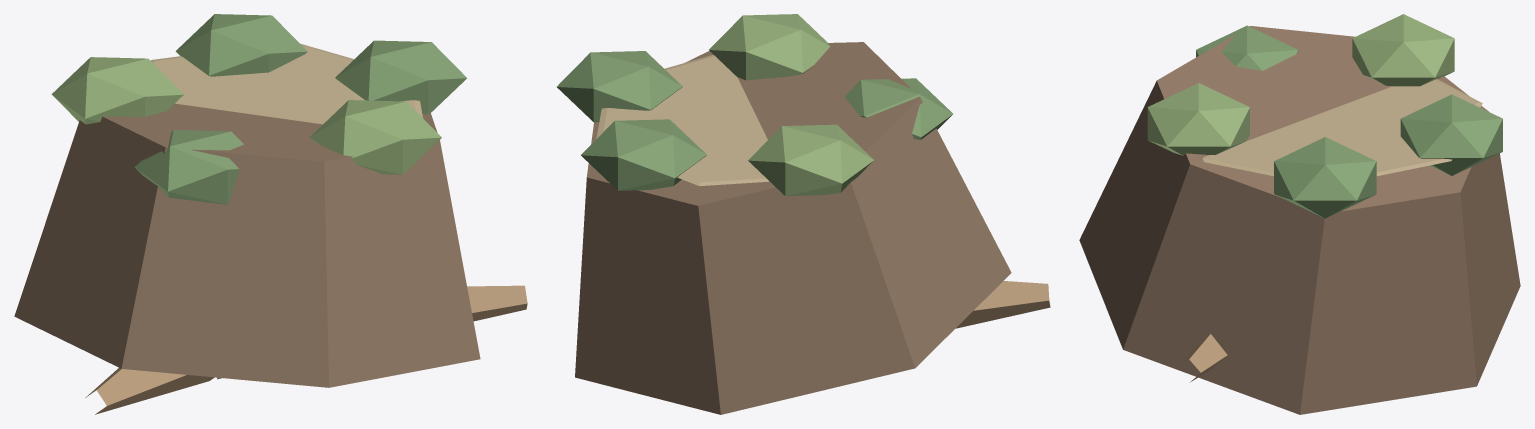
The picture shows the model from 3 angles, left to right: view 1: azimuth 30°, elevation 25°; view 2: azimuth 150°, elevation 25°; view 3: azimuth 270°, elevation 25°; orthographic projection. The views are drawn at different scales.
Visible parts, largest first — view 1: Body; view 2: Body; view 3: Body.
Boxes of the visible parts, <box> form: Body: <box>14,14,527,414</box>; Body: <box>557,14,1050,414</box>; Body: <box>1079,14,1520,414</box>.
Size of the model in its own units: 1.51 by 0.9332 by 1.39.
